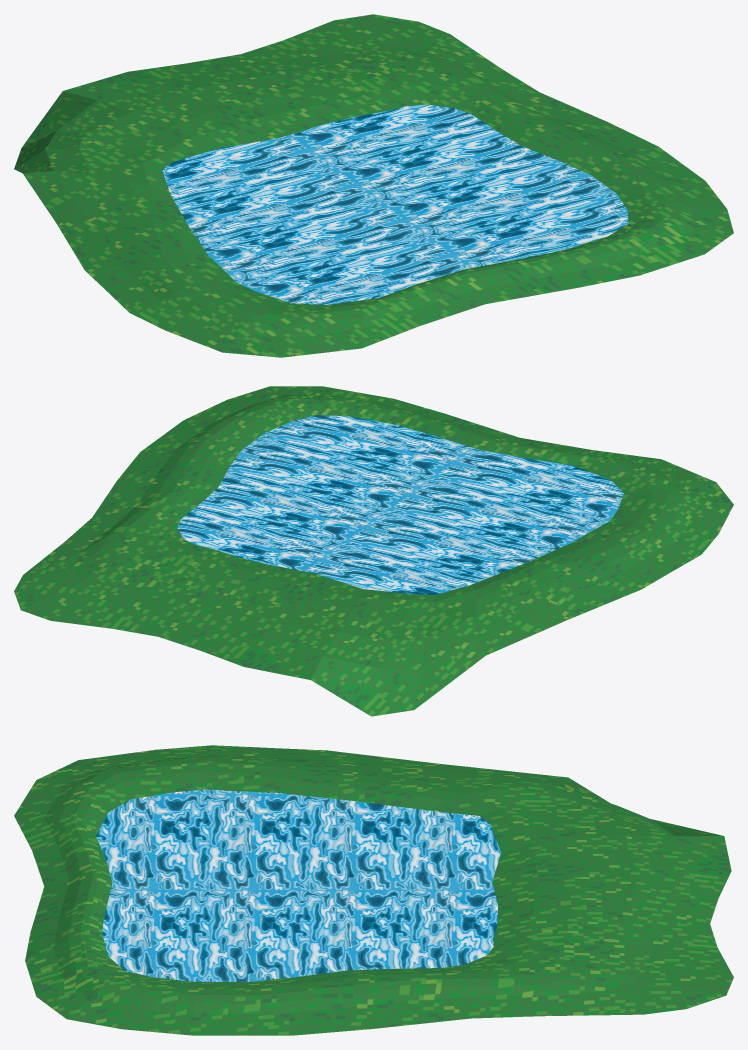
File: Pond.fbx
The picture shows the model from 3 angles, top to bottom: view 1: azimuth 30°, elevation 25°; view 2: azimuth 150°, elevation 25°; view 3: azimuth 270°, elevation 25°; orthographic projection. The views are drawn at different scales.
Parts seen in each view (by area): view 1: Plane.001, Plane; view 2: Plane.001, Plane; view 3: Plane.001, Plane.
Part boxes in pixels (x1=…): Plane.001: x1=14, y1=14, x2=733, y2=357; Plane: x1=162, y1=104, x2=628, y2=304; Plane.001: x1=14, y1=386, x2=733, y2=716; Plane: x1=177, y1=415, x2=623, y2=594; Plane.001: x1=14, y1=745, x2=733, y2=1035; Plane: x1=96, y1=789, x2=500, y2=981.
Bounding box in the file's own units: 290 × 23.76 × 303.
